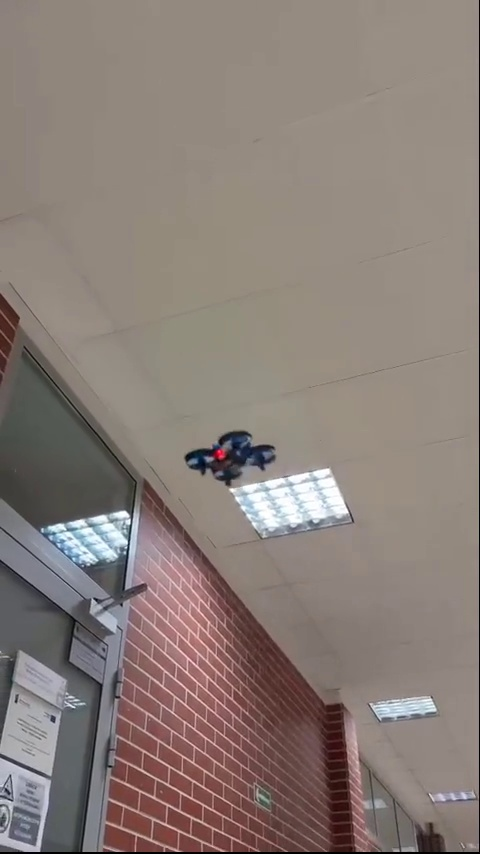drone: (185, 429, 277, 487)
